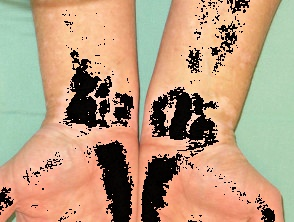vitiligo: (147, 0, 267, 195), (27, 0, 142, 162)
